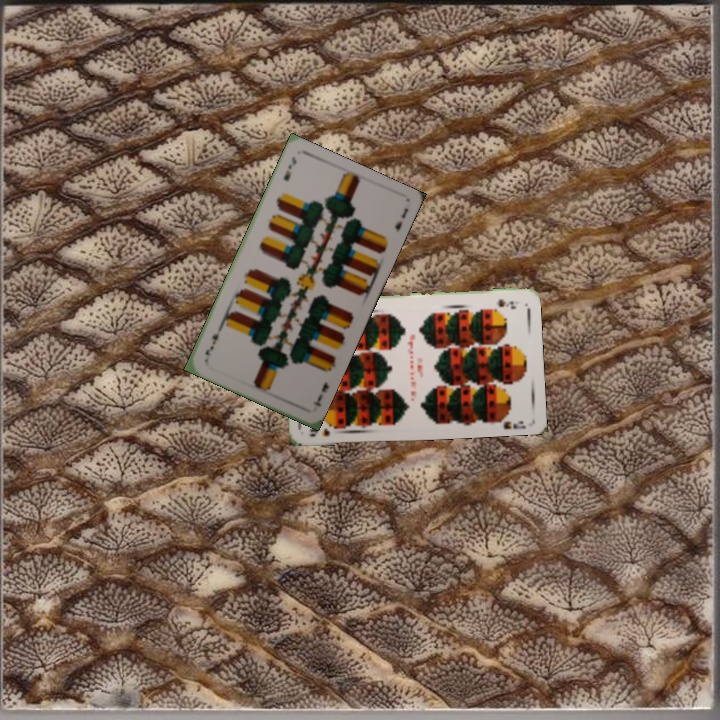E7: (309, 377, 331, 409), (279, 152, 299, 184)
S9: (305, 421, 342, 439), (493, 295, 518, 310)
